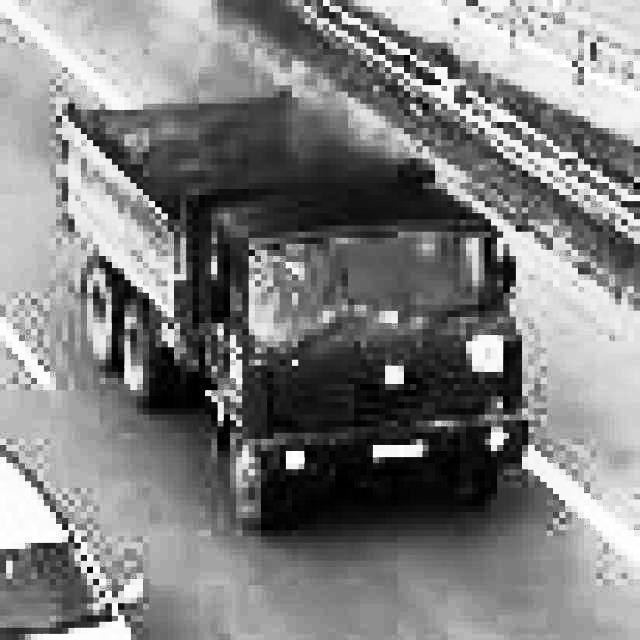Truck: (50, 86, 529, 531)
